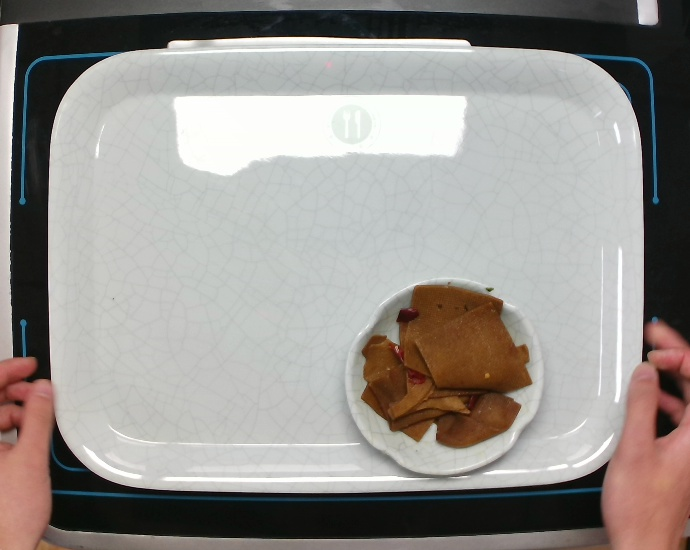JYsf-Ao_Yuan_Wan: (341, 274, 553, 485)
